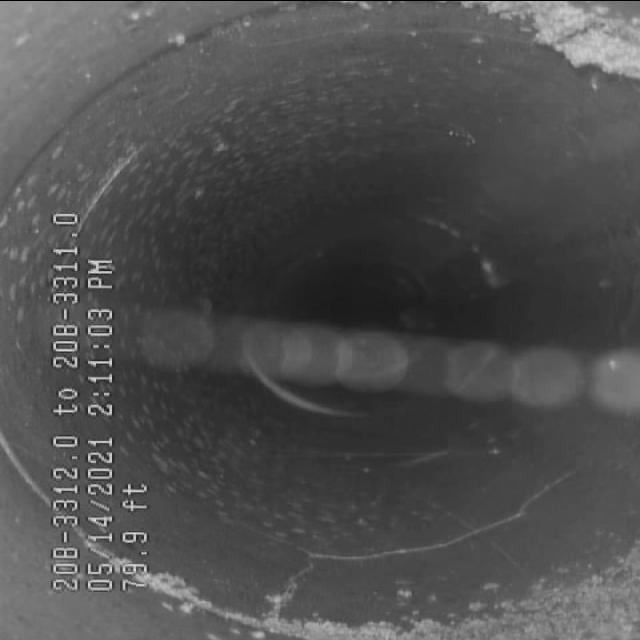Crack: (284, 486, 574, 578)
